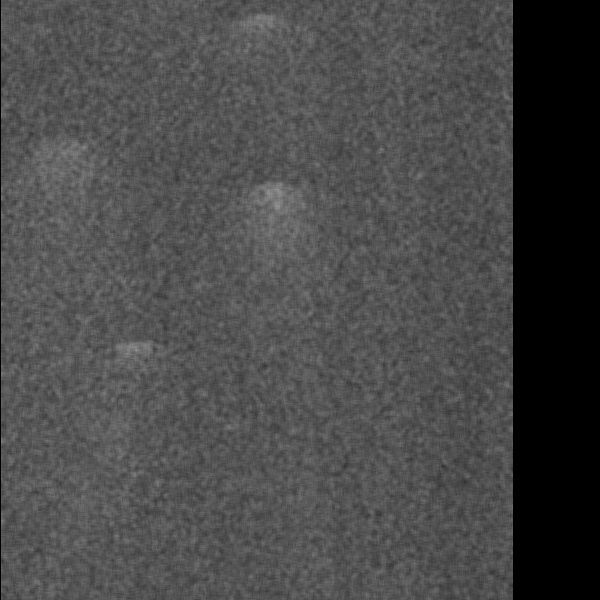spark: (263, 236, 378, 343), (227, 445, 314, 586), (431, 83, 481, 244), (395, 39, 466, 64), (312, 172, 371, 196), (268, 41, 300, 74)
